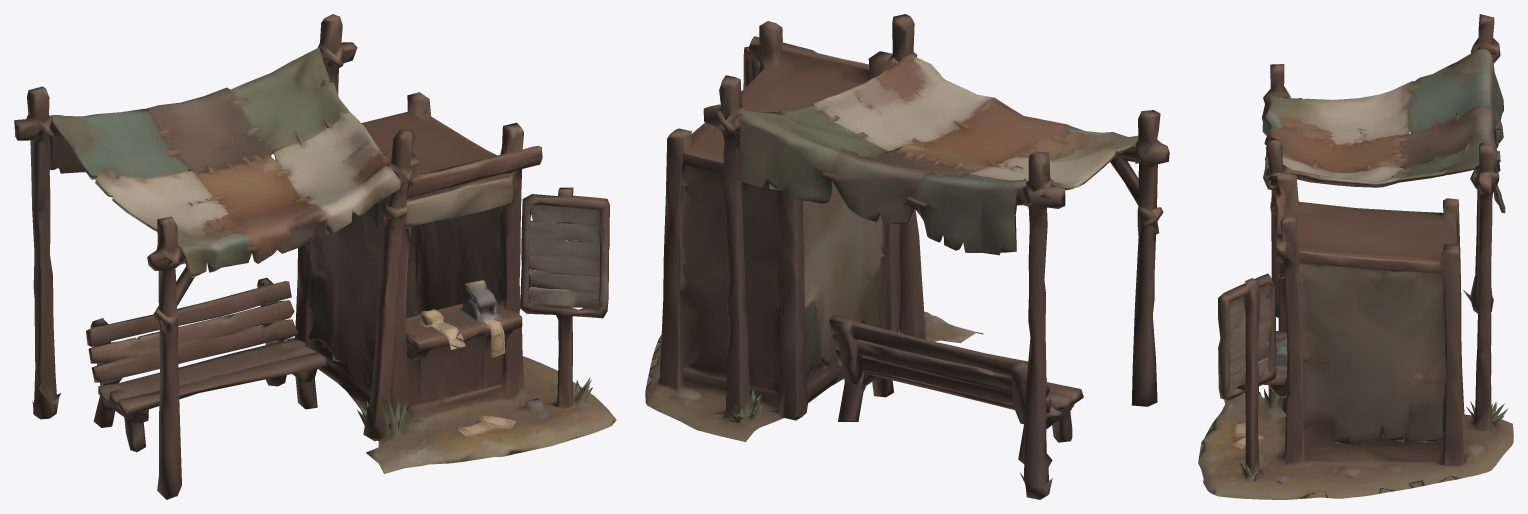
Rendered from motor_park_main.glb.
3 views of the same model, side by side, from view 1: azimuth 30°, elevation 25°; view 2: azimuth 150°, elevation 25°; view 3: azimuth 270°, elevation 25° (orthographic). The views are drawn at different scales.
Parts seen in each view (by area): view 1: tripo_node_ea96743a-6712-491c-835f-9ac2f70d7312; view 2: tripo_node_ea96743a-6712-491c-835f-9ac2f70d7312; view 3: tripo_node_ea96743a-6712-491c-835f-9ac2f70d7312.
Boxes of the visible parts, box(x1,y1,x2,y2) form: tripo_node_ea96743a-6712-491c-835f-9ac2f70d7312: box(14, 14, 616, 499); tripo_node_ea96743a-6712-491c-835f-9ac2f70d7312: box(645, 14, 1169, 499); tripo_node_ea96743a-6712-491c-835f-9ac2f70d7312: box(1198, 14, 1513, 499).
Size of the model in its own units: 1 by 0.6814 by 0.6646.
Materials: 1 (1 with a texture image).
